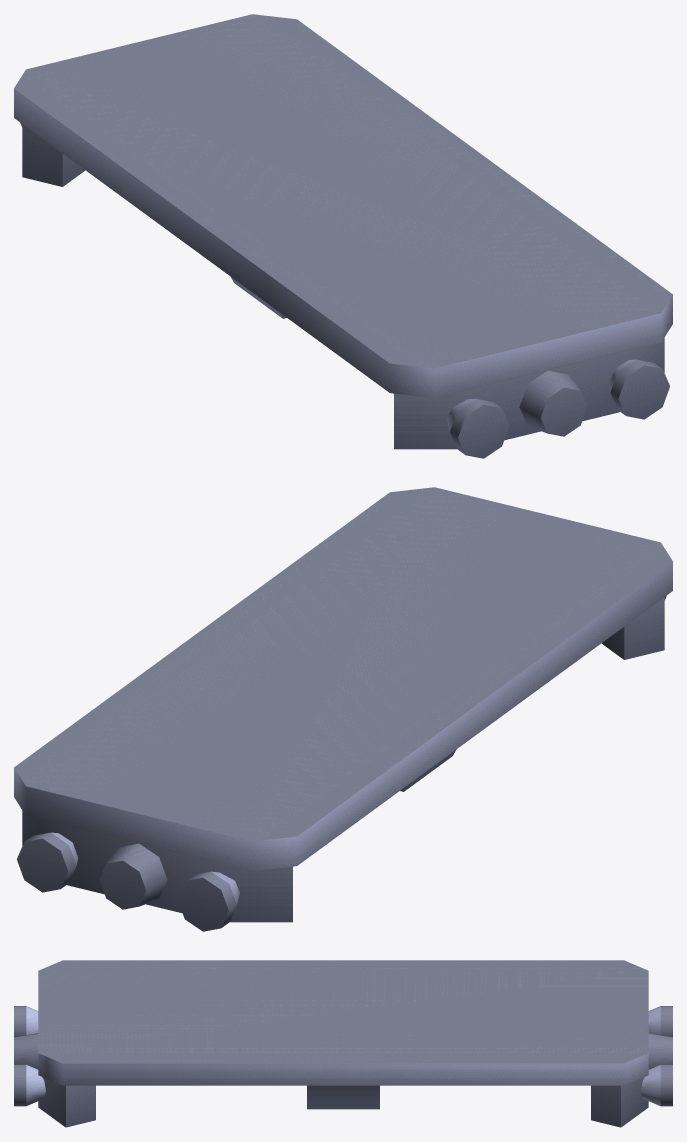
File: train-carriage-container-red_lev2.glb
3 renders of one model, top to bottom at view 1: azimuth 30°, elevation 25°; view 2: azimuth 150°, elevation 25°; view 3: azimuth 270°, elevation 25°, orthographic. The views are drawn at different scales.
Parts seen in each view (by area): view 1: train-carriage-container-red_lev2; view 2: train-carriage-container-red_lev2; view 3: train-carriage-container-red_lev2.
Part boxes in pixels (<box>): train-carriage-container-red_lev2: <box>14,14,672,458</box>; train-carriage-container-red_lev2: <box>14,487,672,931</box>; train-carriage-container-red_lev2: <box>14,960,672,1127</box>.
Size of the model in its own units: 1 by 0.3 by 2.7.
1 material, 1 textured.
